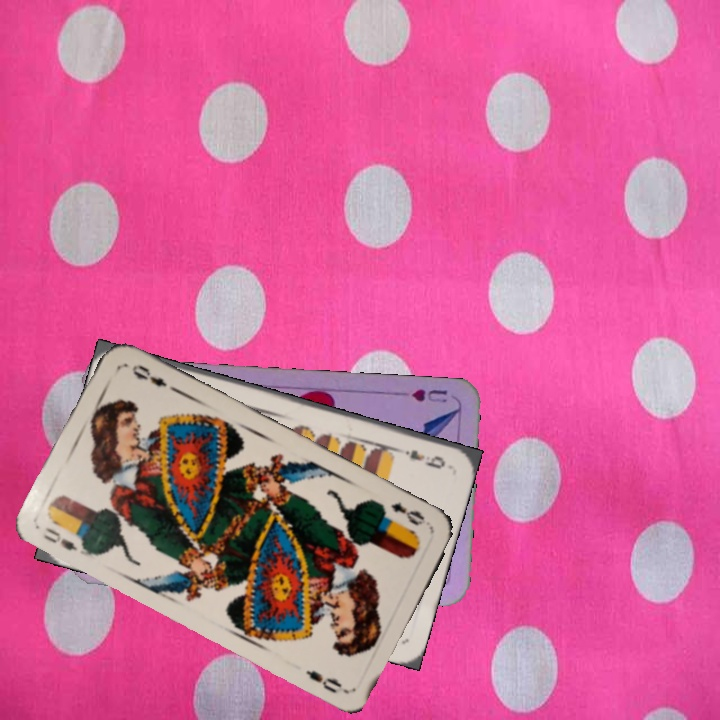E9: (394, 444, 448, 472)
EO: (39, 517, 90, 558), (386, 498, 433, 531)
HU: (408, 385, 450, 405)
